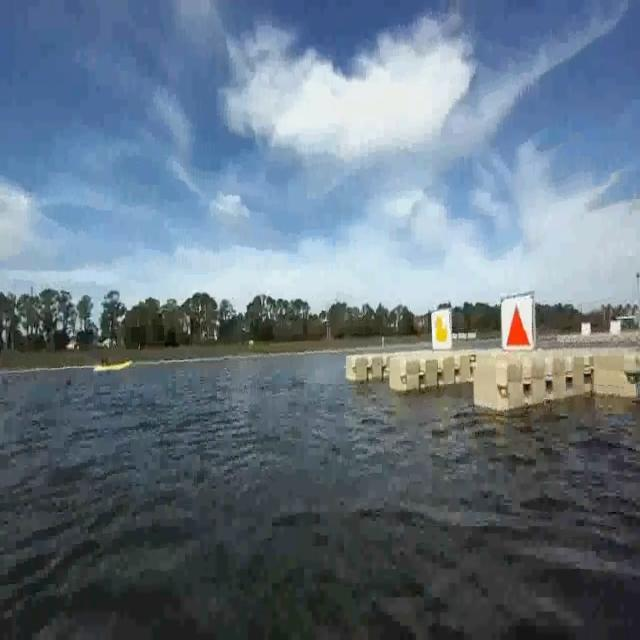red-dot: (503, 302, 532, 346)
yellow-duck: (432, 312, 454, 342)
